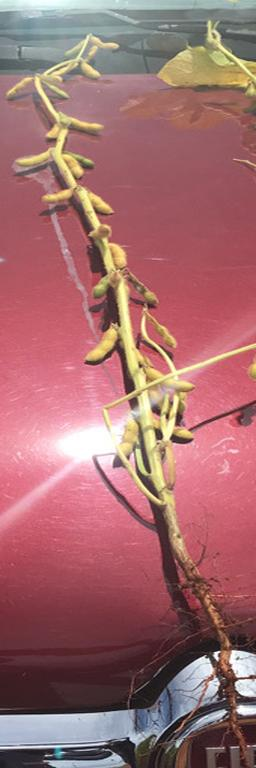pod: (141, 310, 179, 351), (137, 366, 199, 390), (84, 327, 119, 364), (126, 272, 160, 306), (79, 189, 118, 217), (115, 418, 138, 461), (61, 112, 107, 133), (14, 149, 56, 170), (6, 75, 37, 101), (39, 78, 71, 101), (92, 272, 117, 299), (61, 152, 83, 180), (38, 190, 76, 204), (110, 244, 129, 272), (81, 59, 102, 82), (66, 39, 89, 56), (89, 37, 121, 49), (87, 224, 110, 239), (45, 124, 63, 140), (37, 74, 66, 83)
soy: (1, 13, 244, 742)
